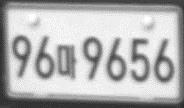5: (130, 38, 150, 81)
6: (153, 37, 175, 83), (105, 37, 127, 81), (35, 35, 55, 80)
9: (11, 34, 33, 78), (82, 36, 104, 80)
마: (55, 43, 78, 79)
